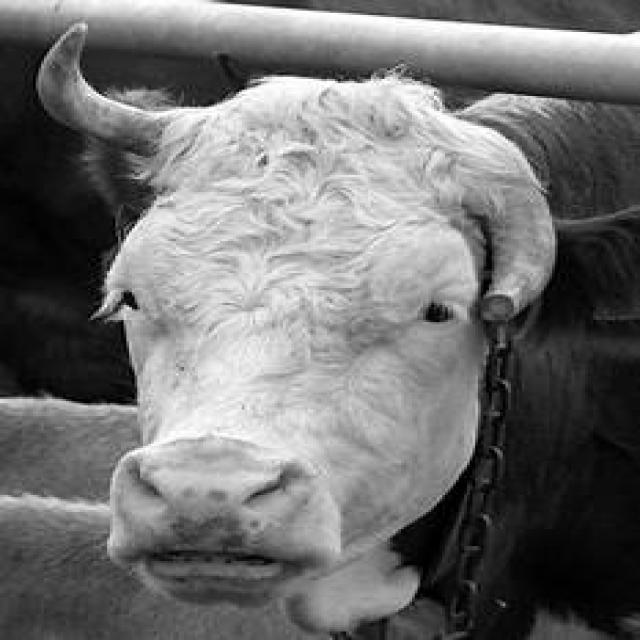cow: (33, 21, 640, 640)
